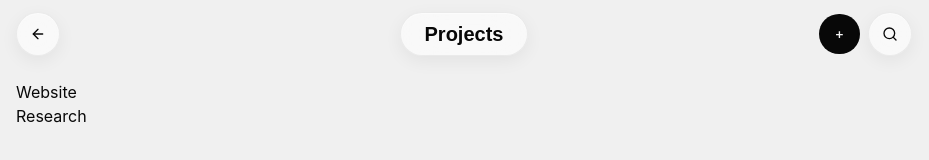
it: Workspace page navigation and project search › filters projects with top search and restores all projects when returning
This screenshot has width=929, height=160.
Click the button named "Search projects" at (890, 34), box [868, 12, 912, 56]
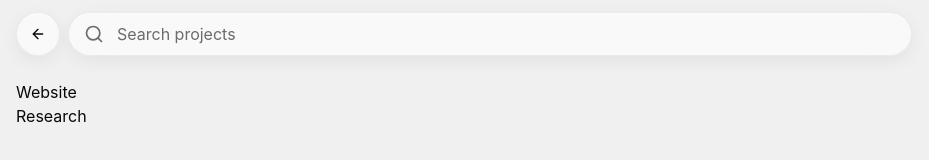
Type "web" into the search field labelled "Search projects" at (490, 34), box [68, 12, 912, 56]
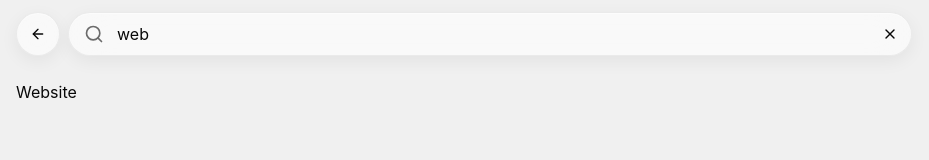
Expected: the text "Website" is shown, [16, 82, 77, 102]
Expected: the text "Research" is gone
Click the button named "Back to Projects" at (38, 34), box [16, 12, 60, 56]
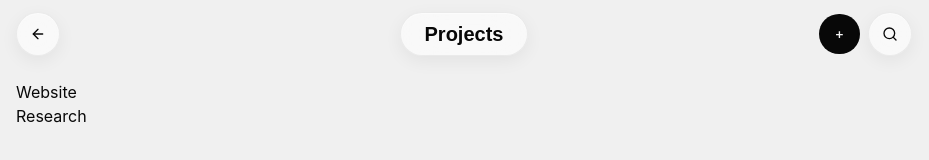
Expected: the text "Research" is shown, [16, 106, 87, 126]
